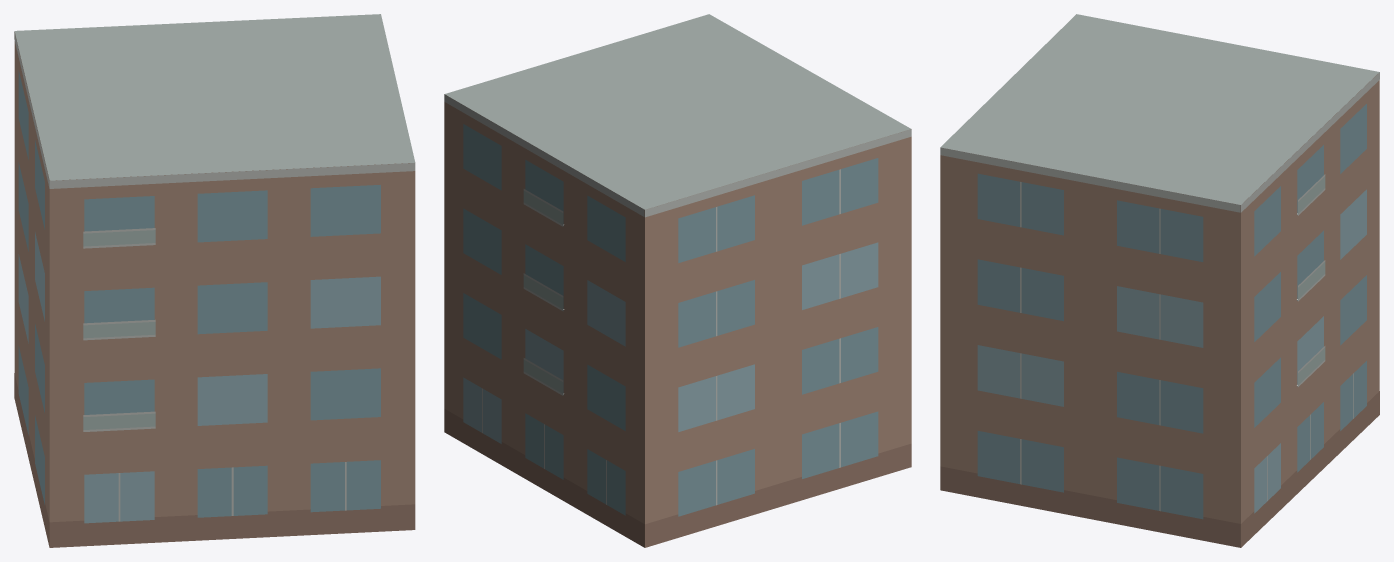
File: survey-upis-32975372.glb
The picture shows the model from 3 angles, left to right: view 1: azimuth 30°, elevation 25°; view 2: azimuth 150°, elevation 25°; view 3: azimuth 270°, elevation 25°; orthographic projection. The views are drawn at different scales.
Parts seen in each view (by area): view 1: survey-upis-32975372.tmp; view 2: survey-upis-32975372.tmp; view 3: survey-upis-32975372.tmp.
Part boxes in pixels (box(x1,y1,x2,y2)): survey-upis-32975372.tmp: box(14, 14, 415, 547); survey-upis-32975372.tmp: box(444, 14, 911, 547); survey-upis-32975372.tmp: box(940, 14, 1379, 547).
Size of the model in its own units: 12.92 by 10.8 by 12.56.
